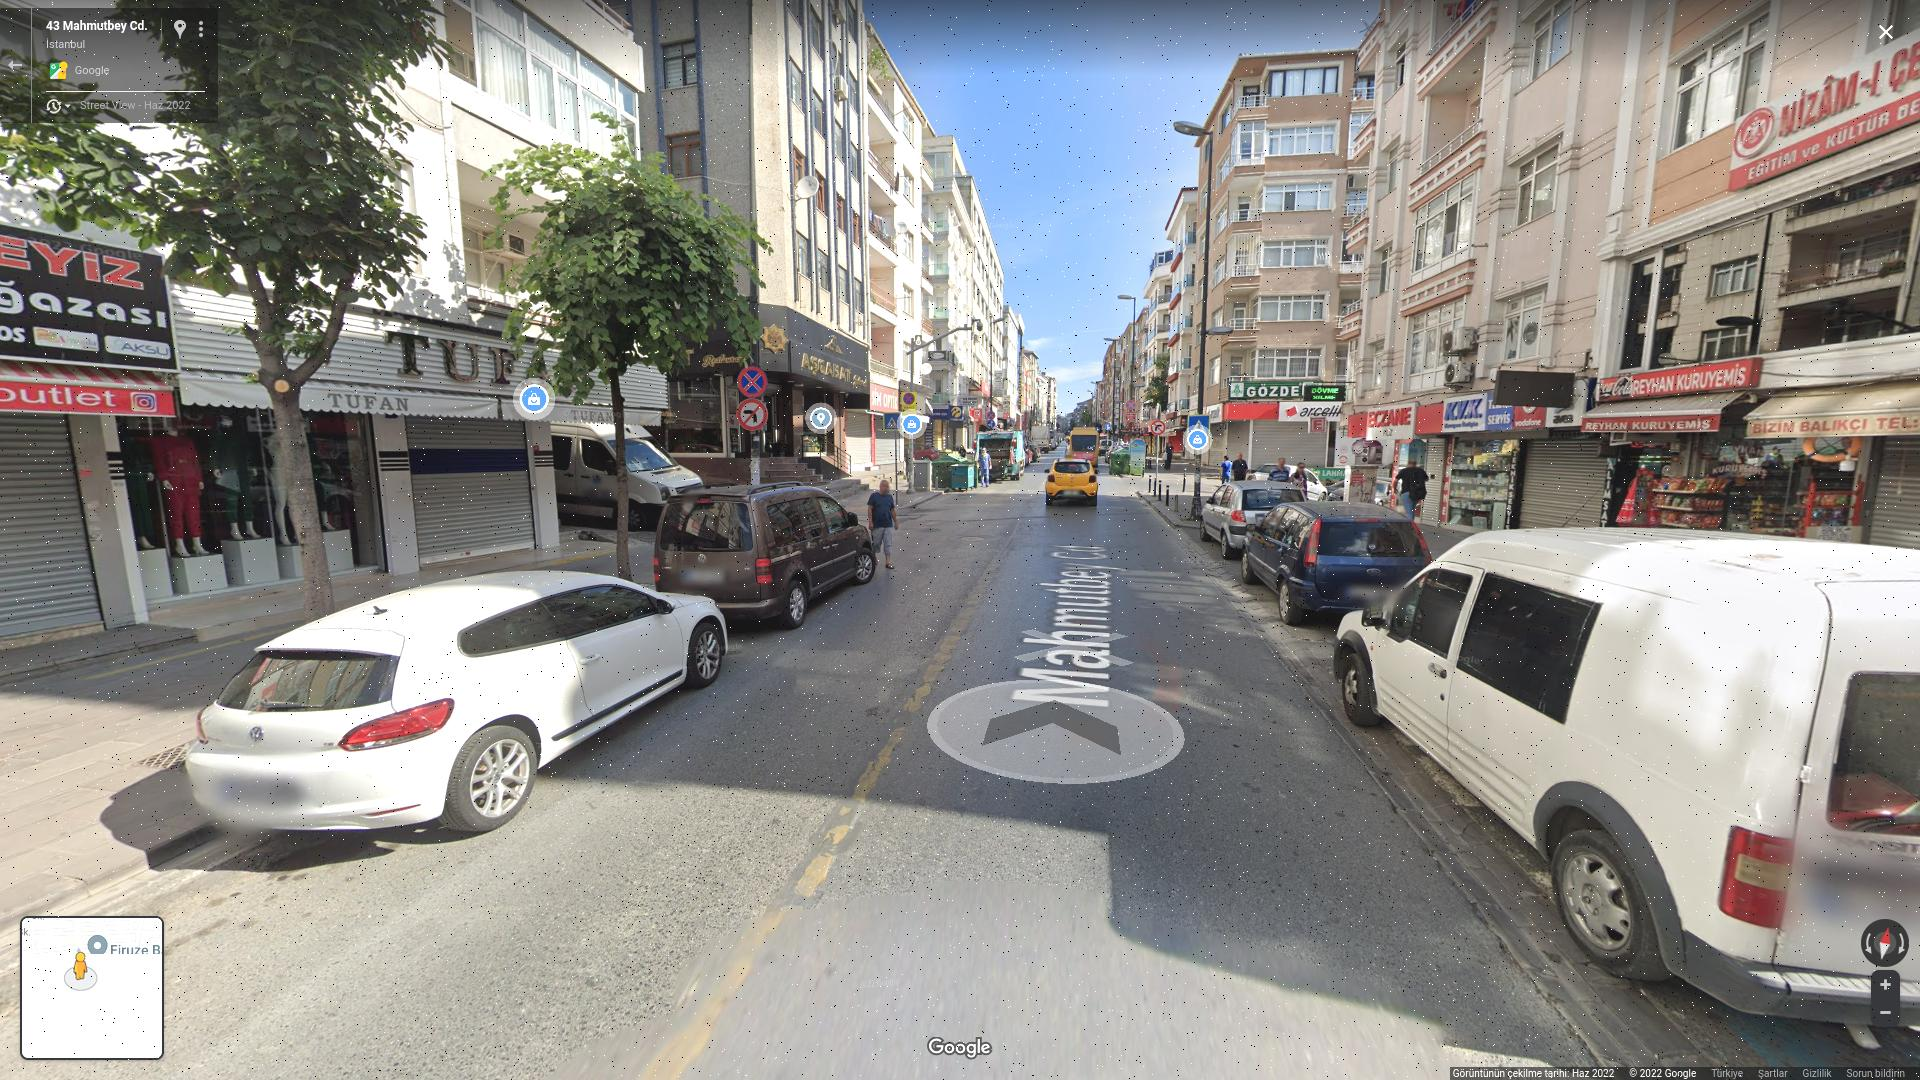leftturnsareforbidden: (736, 400, 769, 431)
rightturnsareforbidden: (1151, 419, 1166, 435)
